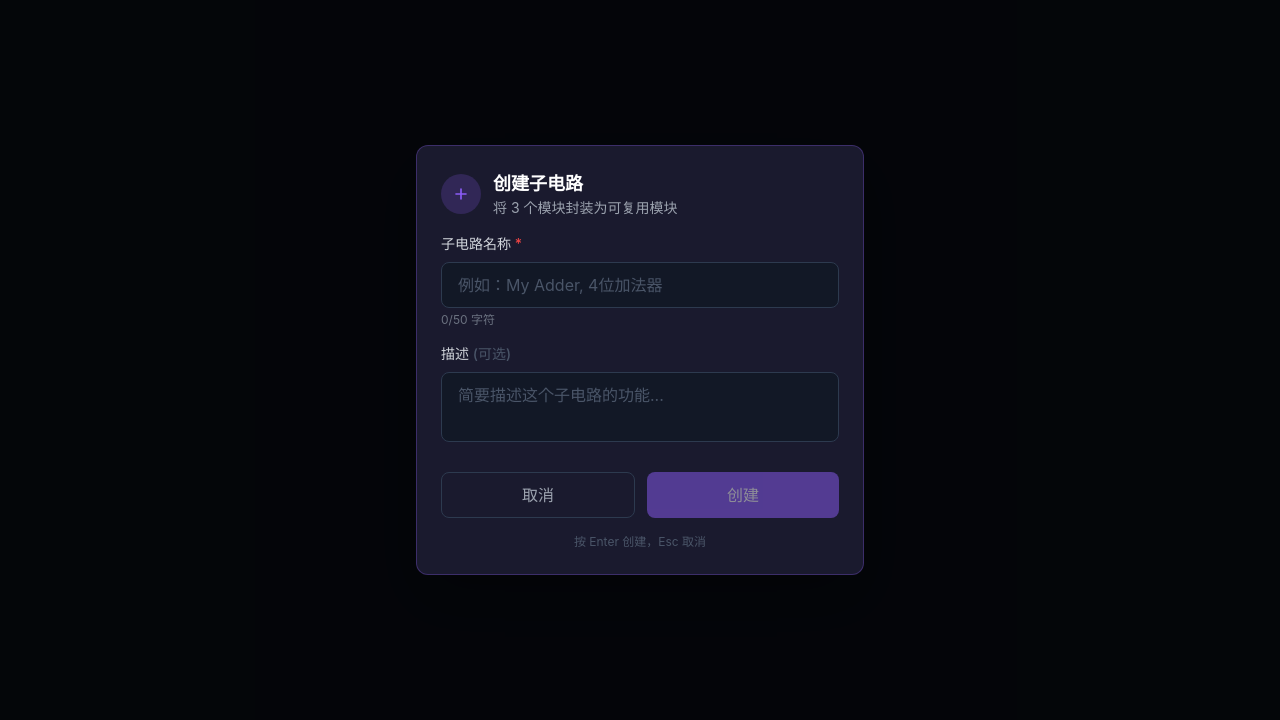
Test case: Error Handling Integration › Error handling in sub-circuit creation › should show error when store returns failure
In the field labelled "子电路名称 *": coordinates (640, 285) [441,262,839,308], type "Fail Test"
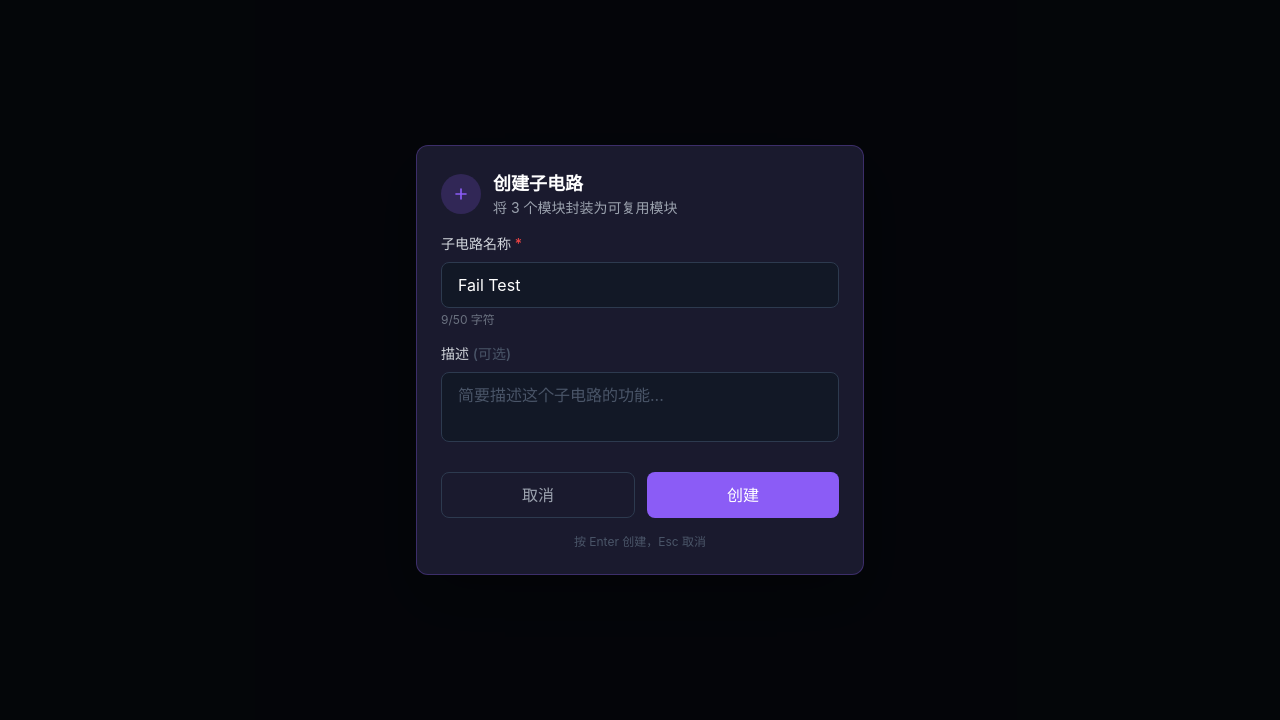
Click the button "创建": coordinates (743, 495) [647,472,839,518]
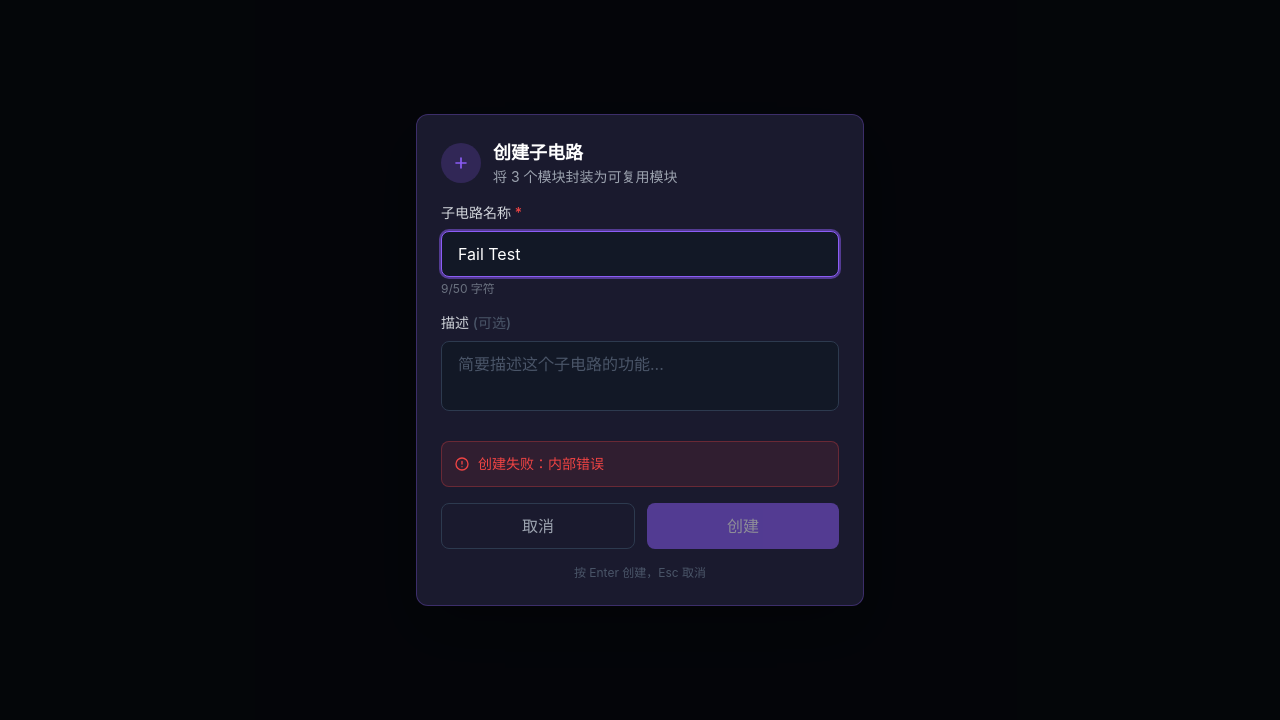
Expected: the text "创建失败：内部错误" is shown, [454,455,604,472]
